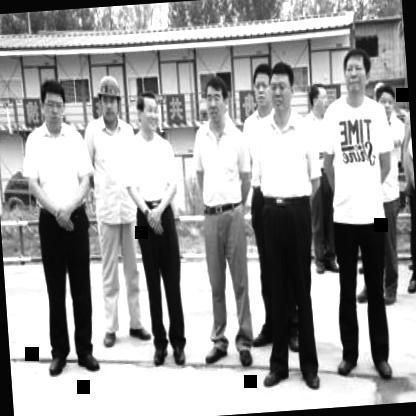head: (338, 45, 374, 100), (266, 56, 298, 114), (200, 72, 232, 126), (37, 79, 70, 131), (248, 60, 278, 116), (134, 90, 162, 136), (375, 82, 399, 127), (309, 77, 331, 115)
helmet: (94, 72, 126, 126)
